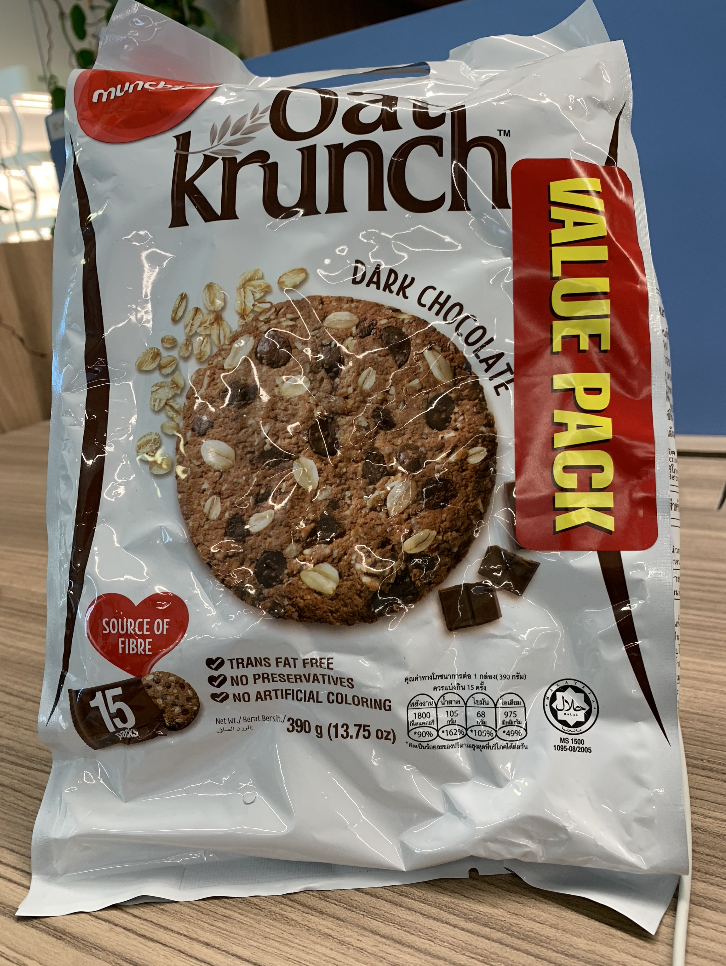cookies_450g: (92, 84, 605, 810)
